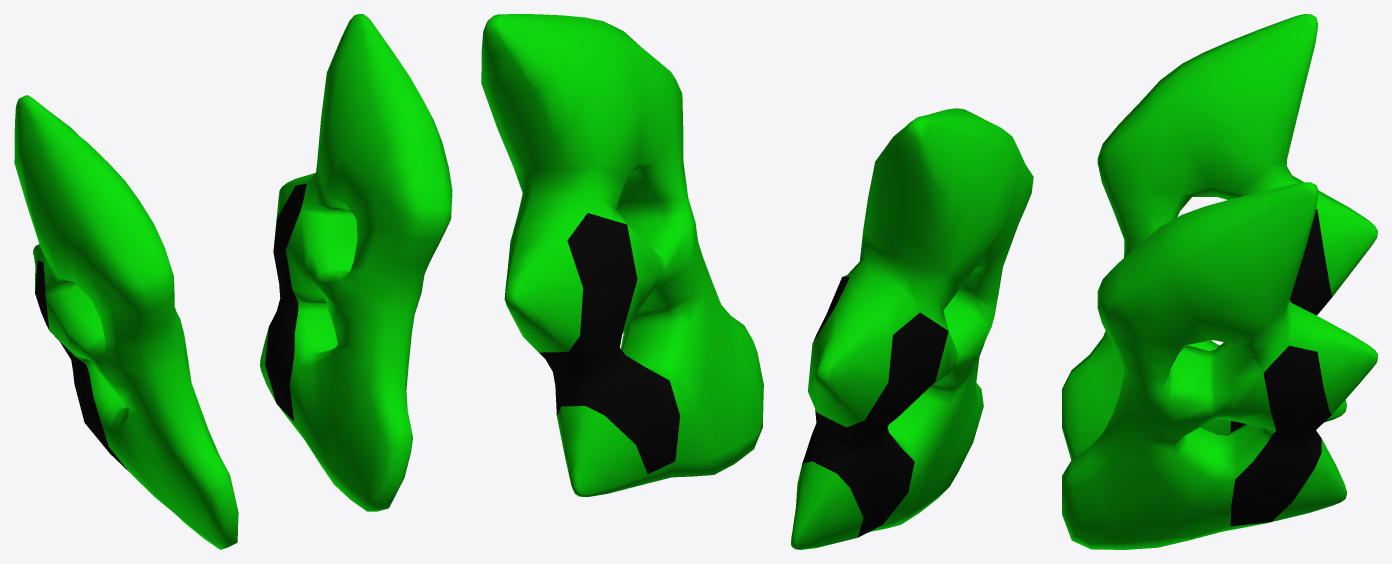
Rendered from S00_Reptile06_L2_Back.glb.
The picture shows the model from 3 angles, left to right: view 1: azimuth 30°, elevation 25°; view 2: azimuth 150°, elevation 25°; view 3: azimuth 270°, elevation 25°; orthographic projection. The views are drawn at different scales.
Visible parts, largest first — view 1: S00_Reptile06_L2_Back__Back_M__surface0__lod0; view 2: S00_Reptile06_L2_Back__Back_M__surface0__lod0; view 3: S00_Reptile06_L2_Back__Back_M__surface0__lod0.
Part boxes in pixels (x1,y1,x2,y2): S00_Reptile06_L2_Back__Back_M__surface0__lod0: (14, 14, 452, 549); S00_Reptile06_L2_Back__Back_M__surface0__lod0: (481, 14, 1033, 549); S00_Reptile06_L2_Back__Back_M__surface0__lod0: (1062, 14, 1377, 549).
Bounding box in the file's own units: 0.6349 × 0.6318 × 0.4399.
